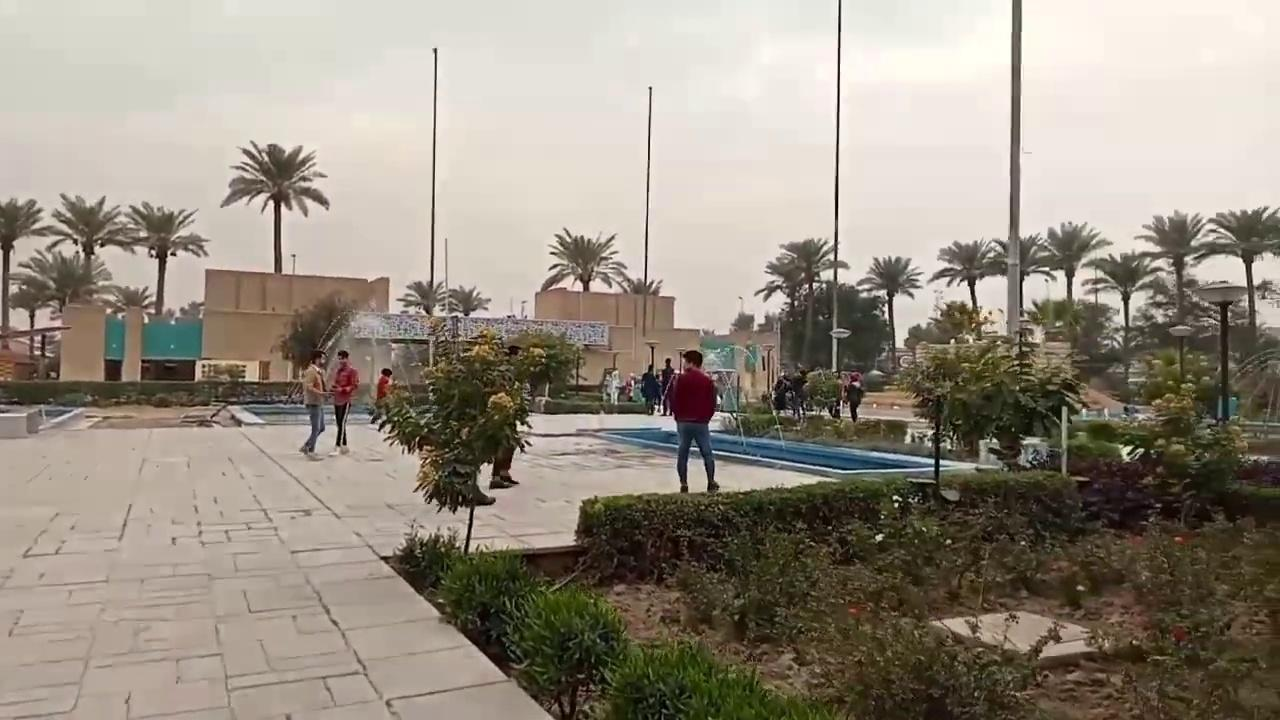fountain: (308, 307, 609, 419), (593, 419, 969, 477)
person: (663, 349, 720, 493), (487, 345, 529, 489), (328, 349, 359, 455), (299, 349, 330, 454), (374, 367, 393, 430), (659, 357, 675, 416), (845, 373, 864, 422)
tree: (367, 321, 581, 552), (896, 330, 1088, 471), (219, 139, 329, 273), (10, 247, 111, 378), (1193, 204, 1279, 356), (755, 236, 849, 371), (114, 200, 209, 315), (1081, 250, 1163, 376), (1038, 219, 1112, 349), (1133, 208, 1208, 326), (928, 237, 1008, 339), (855, 254, 923, 372), (270, 290, 358, 379), (1193, 279, 1247, 422), (989, 232, 1055, 336), (0, 195, 47, 335), (753, 250, 808, 368), (12, 248, 110, 313), (42, 191, 127, 262), (539, 226, 628, 292), (504, 329, 583, 400), (396, 278, 456, 368), (106, 284, 154, 381), (439, 283, 491, 355), (8, 284, 47, 358), (928, 299, 996, 341), (618, 275, 663, 334), (396, 278, 451, 316), (443, 284, 491, 317), (621, 276, 662, 295)
